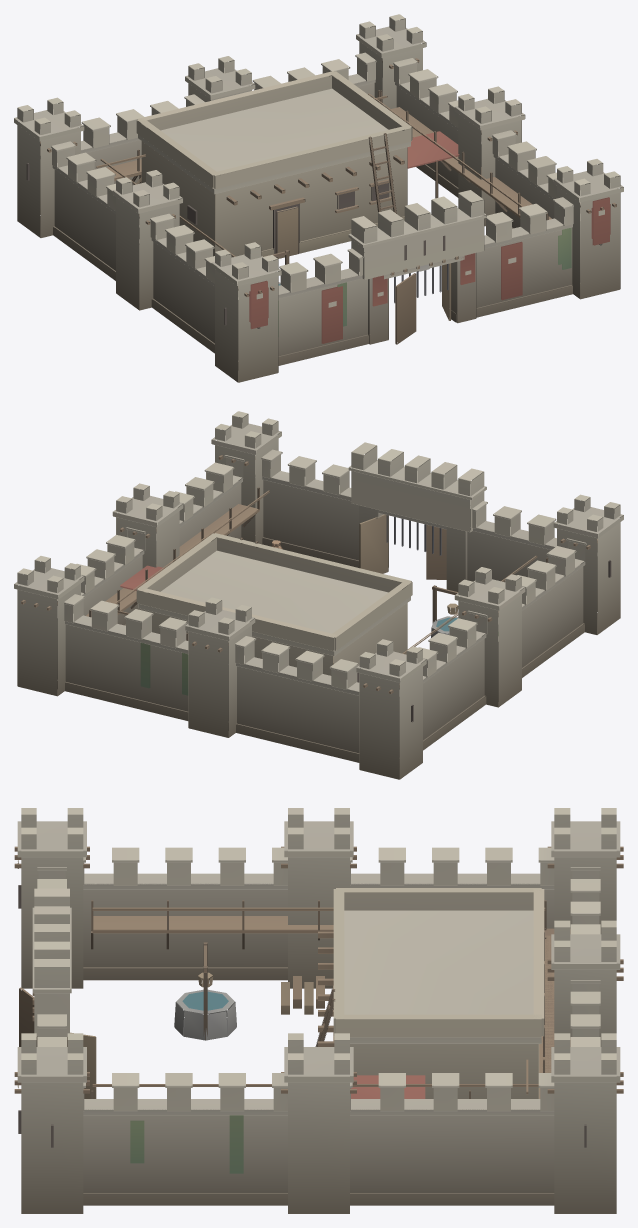
The model's file is iv_compound.lod.glb.
3 views of the same model, one above another, from view 1: azimuth 30°, elevation 25°; view 2: azimuth 150°, elevation 25°; view 3: azimuth 270°, elevation 25° (orthographic). The views are drawn at different scales.
Visible parts, largest first — view 1: iv_compound; view 2: iv_compound; view 3: iv_compound.
Boxes of the visible parts, box(x1,y1,x2,y2) form: iv_compound: box(14, 14, 623, 382); iv_compound: box(14, 411, 623, 779); iv_compound: box(14, 808, 623, 1213).
Size of the model in its own units: 18.1 by 5.31 by 18.3.
